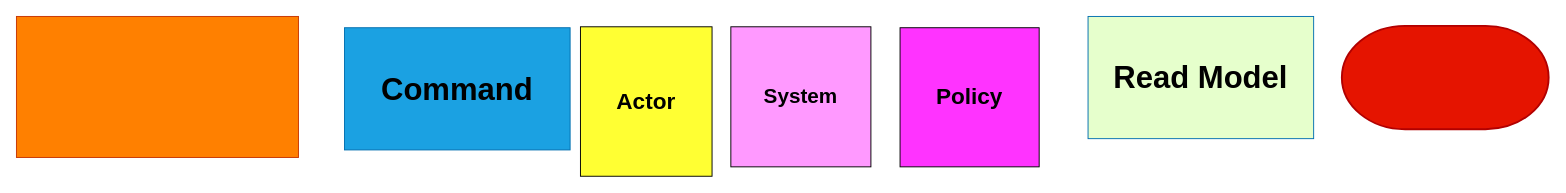
Some shapes in this 1566 by 193 pixel diagram are drawn without their labels. The box of each missing label's shape, as (x1, y1, x2, y2) in pixels:
Domain Event: (16, 16, 298, 157)
Hot spot: (1340, 24, 1549, 130)
